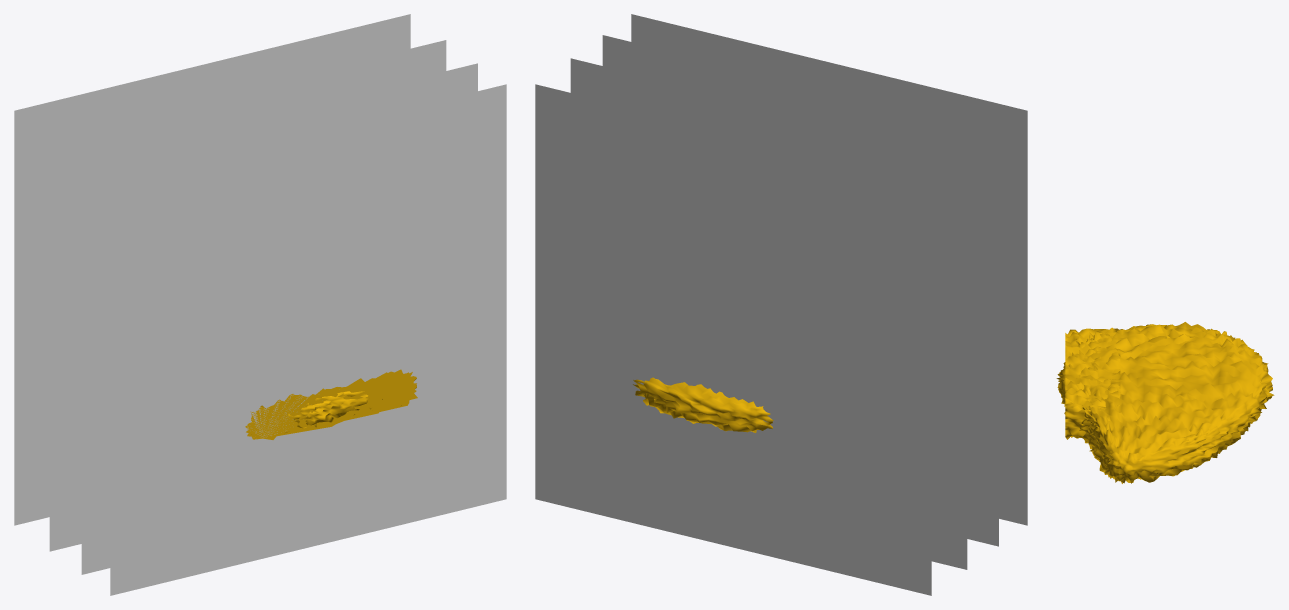
File: 切ったカツ２.fbx
3 renders of one model, left to right at view 1: azimuth 30°, elevation 25°; view 2: azimuth 150°, elevation 25°; view 3: azimuth 270°, elevation 25°, orthographic. The views are drawn at different scales.
Visible parts, largest first — view 1: 平面.002, 平面.005, 平面.004, 平面.003, 平面.001, 平面; view 2: 平面.005, 平面.004, 平面.003, 平面.002, 平面; view 3: 平面, 平面.001.
Boxes of the visible parts, x1,y1,x2,y2 form: 平面.002: (110,84,506,595); 平面.005: (14,14,410,525); 平面.004: (49,40,446,551); 平面.003: (81,63,477,574); 平面.001: (245,369,417,439); 平面: (288,391,382,428); 平面.005: (535,84,931,595); 平面.004: (570,58,967,569); 平面.003: (602,35,998,546); 平面.002: (631,14,1027,525); 平面: (633,377,773,432); 平面: (1056,322,1274,483); 平面.001: (1065,328,1120,439).
Bounding box in the file's own units: 418 × 400 × 200.
